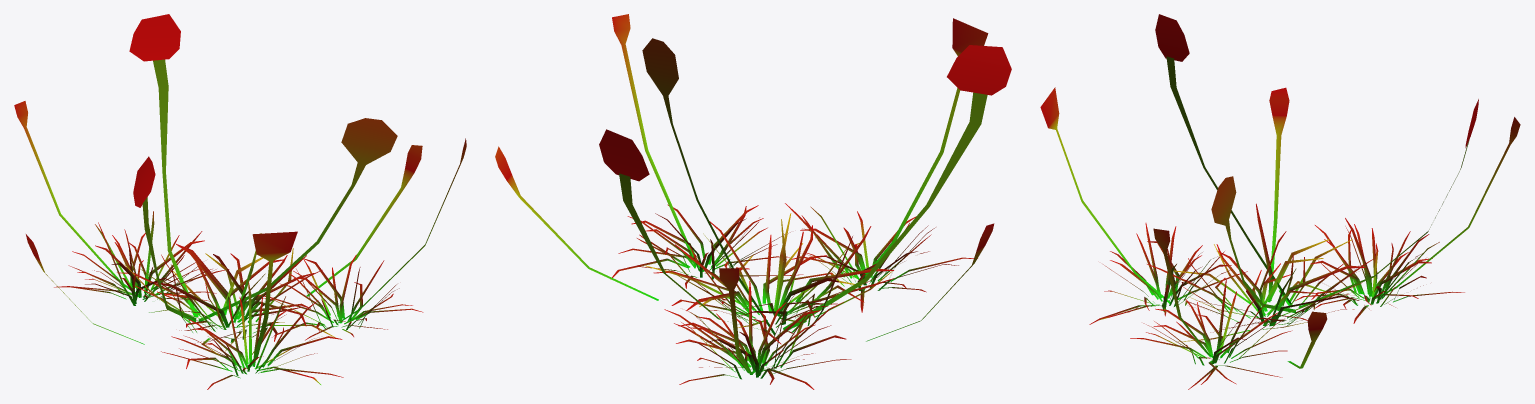
File: Var3_LOD3.fbx
3 renders of one model, left to right at view 1: azimuth 30°, elevation 25°; view 2: azimuth 150°, elevation 25°; view 3: azimuth 270°, elevation 25°, orthographic. The views are drawn at different scales.
Visible parts, largest first — view 1: _pssk_Var3_LOD3; view 2: _pssk_Var3_LOD3; view 3: _pssk_Var3_LOD3.
Part boxes in pixels (x1,y1,x2,y2): _pssk_Var3_LOD3: (14, 14, 466, 389); _pssk_Var3_LOD3: (495, 14, 1011, 389); _pssk_Var3_LOD3: (1040, 14, 1520, 389).
Bounding box in the file's own units: 33.41 × 18.41 × 33.55.
